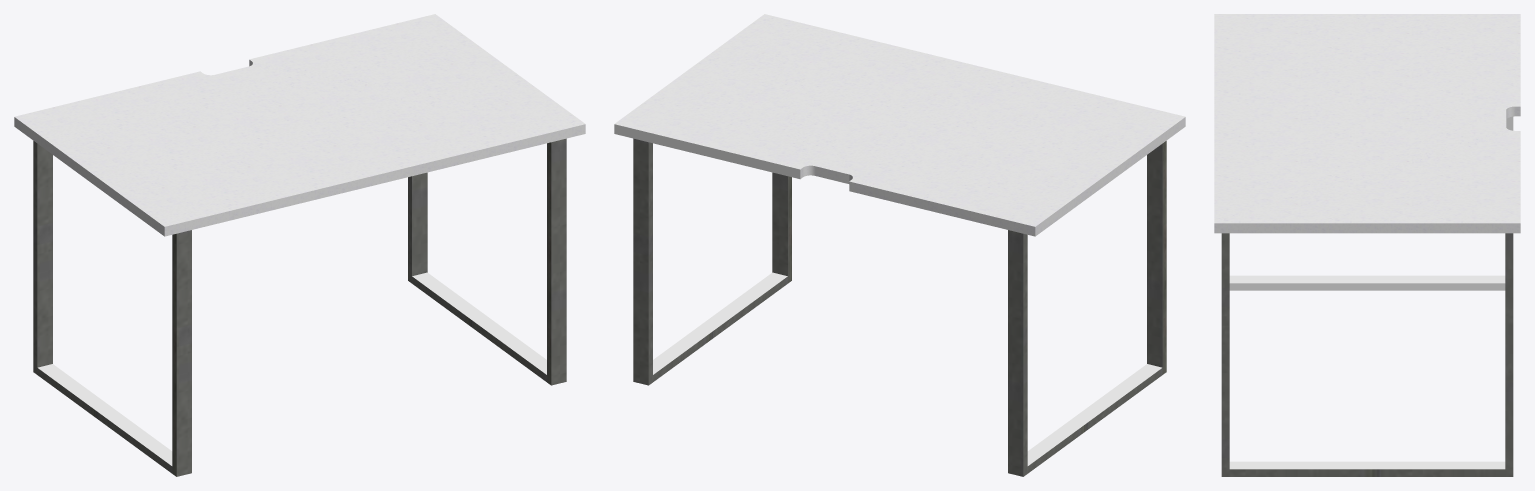
Rendered from Stol.glb.
3 renders of one model, left to right at view 1: azimuth 30°, elevation 25°; view 2: azimuth 150°, elevation 25°; view 3: azimuth 270°, elevation 25°, orthographic.
Parts seen in each view (by area): view 1: SketchUp.008, SketchUp, SketchUp.003, SketchUp.001, SketchUp.002, SketchUp.005, SketchUp.004; view 2: SketchUp.008, SketchUp, SketchUp.003, SketchUp.001, SketchUp.002, SketchUp.005, SketchUp.009, SketchUp.004; view 3: SketchUp.008, SketchUp.003, SketchUp.002, SketchUp.005, SketchUp.006.
Part boxes in pixels (box(x1,y1,x2,y2)): SketchUp.008: box(14, 14, 585, 236); SketchUp: box(33, 141, 191, 476); SketchUp.003: box(408, 138, 566, 385); SketchUp.001: box(37, 143, 52, 367); SketchUp.002: box(38, 364, 172, 465); SketchUp.005: box(412, 272, 546, 374); SketchUp.004: box(412, 172, 427, 275); SketchUp.008: box(614, 14, 1185, 236); SketchUp: box(1008, 141, 1166, 476); SketchUp.003: box(633, 138, 791, 385); SketchUp.001: box(1147, 143, 1162, 367); SketchUp.002: box(1027, 364, 1161, 465); SketchUp.005: box(653, 272, 787, 374); SketchUp.009: box(614, 124, 800, 178); SketchUp.004: box(772, 172, 787, 275); SketchUp.008: box(1214, 14, 1520, 233); SketchUp.003: box(1221, 233, 1513, 476); SketchUp.002: box(1229, 275, 1505, 283); SketchUp.005: box(1229, 461, 1505, 469); SketchUp.006: box(1229, 116, 1513, 290).
Bounding box in the file's own units: 1.36 × 0.79 × 0.84.
Materials: 3 (2 with a texture image).
